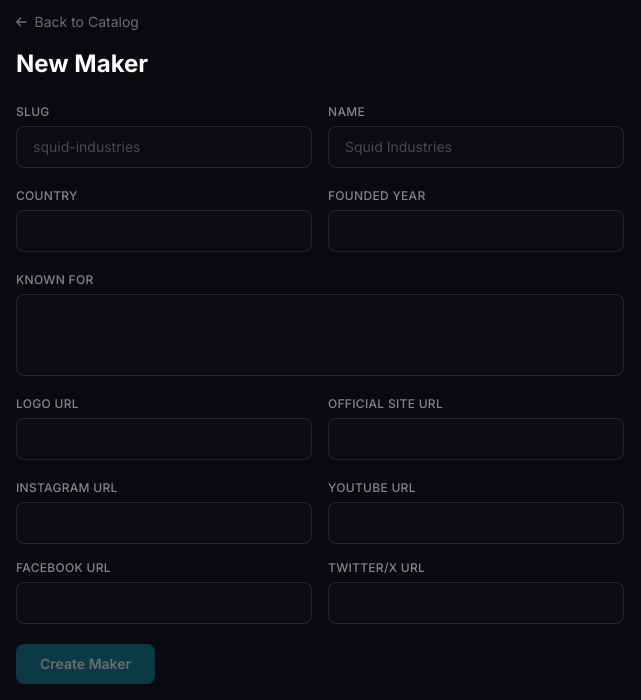
Test: AdminMakerFormPage — create mode › disables submit until slug and name are filled
expect the button "Create Maker" is disabled: met, box [16,644,155,684]
Type "acme" into the field with placeholder "squid-industries" at {"x": 164, "y": 147}, box [16,126,312,168]
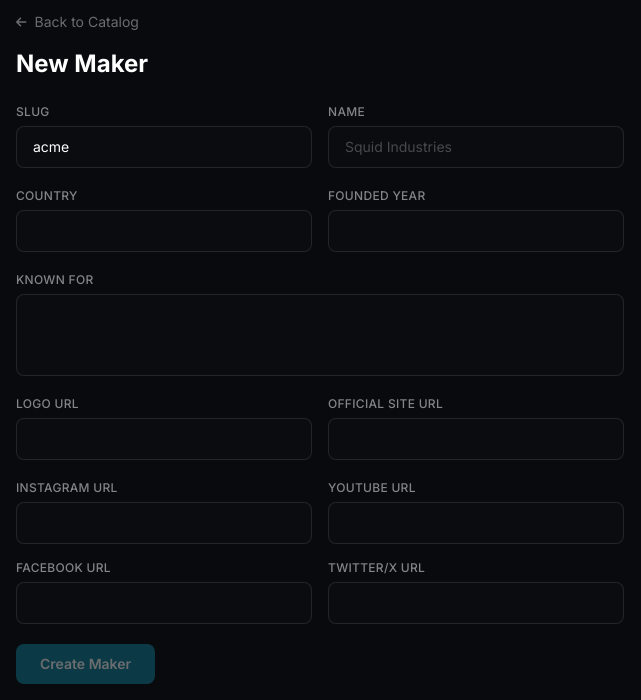
expect the button "Create Maker" is disabled: met, box [16,644,155,684]
Type "Acme" into the field with placeholder "Squid Industries" at {"x": 476, "y": 147}, box [328,126,624,168]
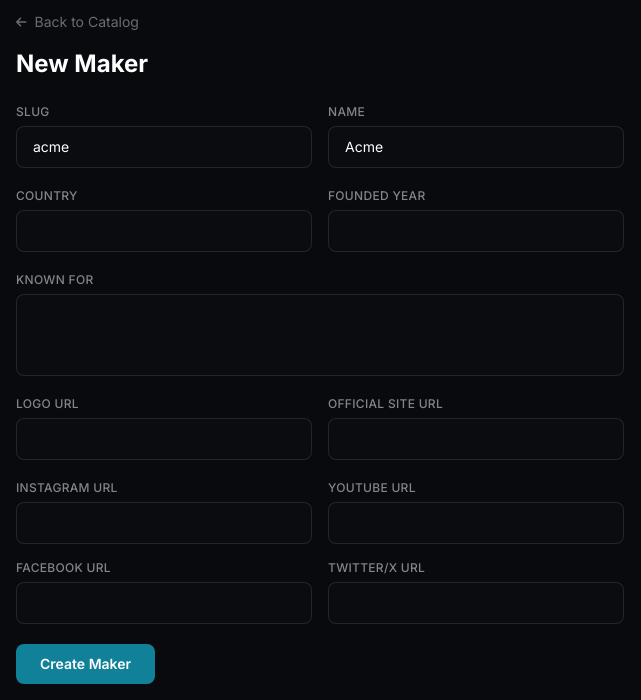
expect the button "Create Maker" is enabled: met, box [16,644,155,684]
